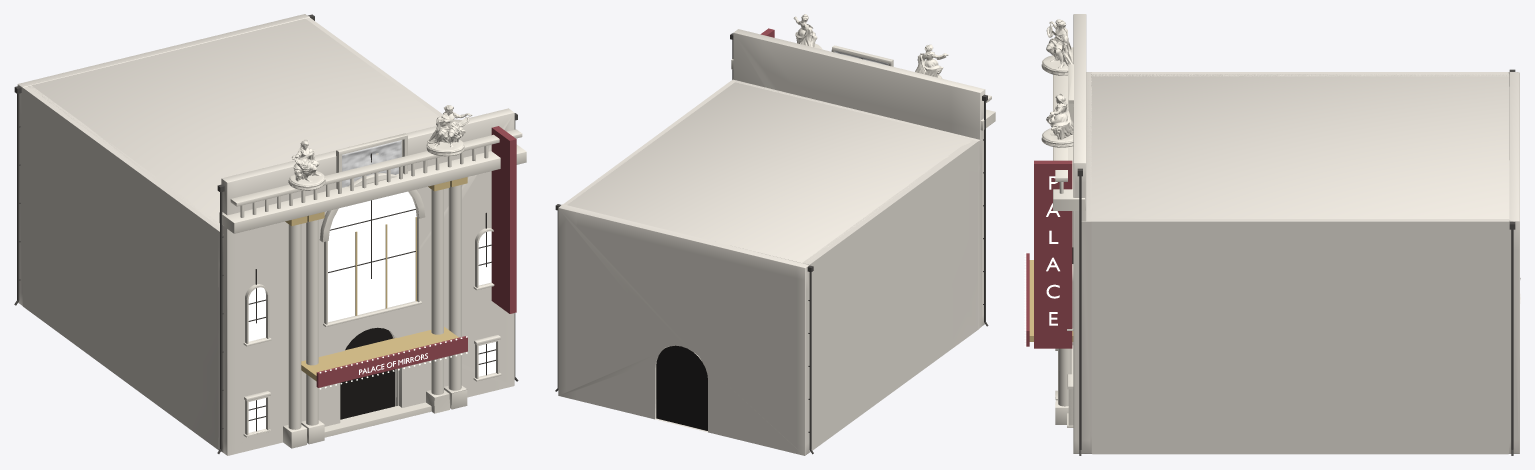
File: palace-of-mirrors.glb
3 views of the same model, side by side, from view 1: azimuth 30°, elevation 25°; view 2: azimuth 150°, elevation 25°; view 3: azimuth 270°, elevation 25° (orthographic). The views are drawn at different scales.
Parts seen in each view (by area): view 1: latheatre_side, latheatre_wall, latheatre_trim, latheatre_glass, latheatre_wood, merged_latheatre_trim, latheatre_gold, latheatre_shadow, detail_latheatre_pipe, merged_latheatre_relief_latheatre-cartouche, detail_latheatre_frame; view 2: latheatre_side, latheatre_wall, latheatre_shadow, detail_latheatre_pipe, merged_latheatre_trim, latheatre_trim; view 3: latheatre_side, latheatre_wood, latheatre_wall, merged_latheatre_trim, latheatre_trim, detail_latheatre_pipe.
Boxes of the visible parts, left/top/right/bottom form: latheatre_side: left=17, top=14, right=442, bottom=452; latheatre_wall: left=221, top=108, right=514, bottom=455; latheatre_trim: left=219, top=129, right=526, bottom=448; latheatre_glass: left=248, top=191, right=495, bottom=432; latheatre_wood: left=316, top=126, right=516, bottom=387; merged_latheatre_trim: left=243, top=105, right=501, bottom=437; latheatre_gold: left=285, top=177, right=467, bottom=381; latheatre_shadow: left=340, top=327, right=394, bottom=419; detail_latheatre_pipe: left=14, top=14, right=518, bottom=453; merged_latheatre_relief_latheatre-cartouche: left=342, top=140, right=401, bottom=187; detail_latheatre_frame: left=248, top=153, right=496, bottom=431; latheatre_side: left=558, top=79, right=981, bottom=455; latheatre_wall: left=733, top=29, right=985, bottom=325; latheatre_shadow: left=656, top=345, right=707, bottom=430; detail_latheatre_pipe: left=555, top=33, right=988, bottom=454; merged_latheatre_trim: left=793, top=14, right=948, bottom=78; latheatre_trim: left=731, top=45, right=995, bottom=130; latheatre_side: left=1081, top=72, right=1520, bottom=454; latheatre_wood: left=1026, top=160, right=1072, bottom=348; latheatre_wall: left=1073, top=14, right=1086, bottom=453; merged_latheatre_trim: left=1041, top=19, right=1073, bottom=427; latheatre_trim: left=1053, top=29, right=1085, bottom=424; detail_latheatre_pipe: left=1077, top=69, right=1515, bottom=455.
Size of the model in its own units: 17.27 by 16.62 by 23.17.
